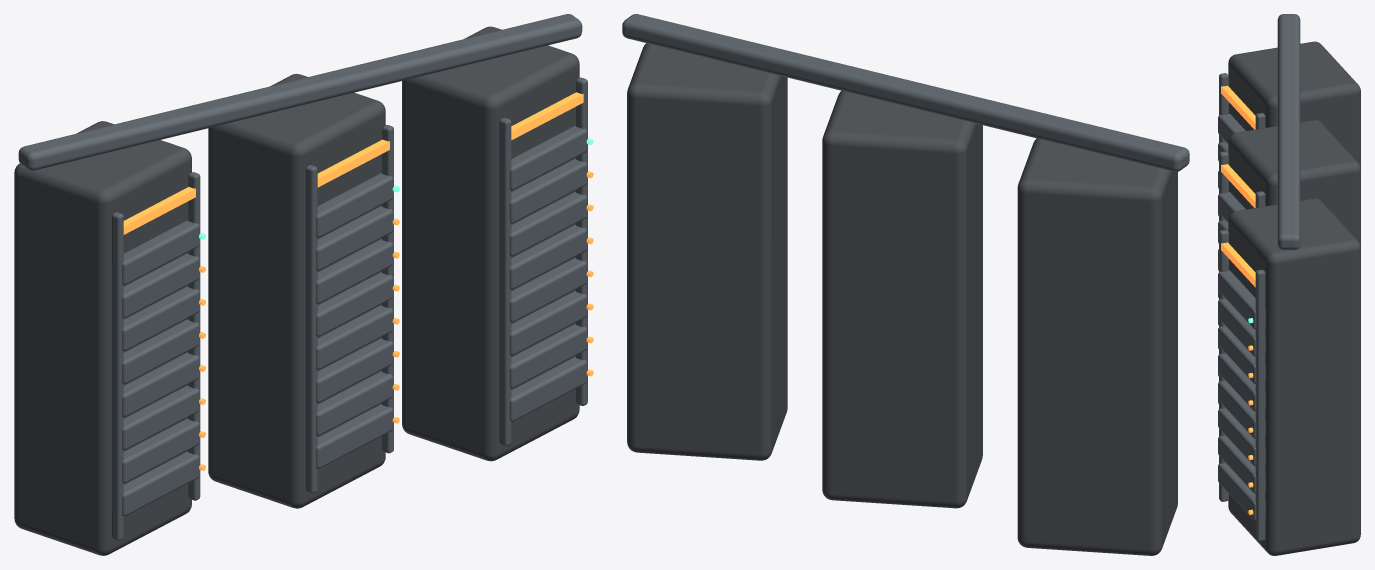
Rendered from cloud-hpc.glb.
3 renders of one model, left to right at view 1: azimuth 30°, elevation 25°; view 2: azimuth 150°, elevation 25°; view 3: azimuth 270°, elevation 25°, orthographic. The views are drawn at different scales.
Parts seen in each view (by area): view 1: Cloud_Rack_A, Cloud_Rack_B, Cloud_Rack_C, Cloud_HPC_TopologySpine, Cloud_Rack_B_LeftRail, Cloud_Rack_C_LeftRail, Cloud_Rack_A_LeftRail, Cloud_Rack_C_Bay_07, Cloud_Rack_C_Bay_05, Cloud_Rack_C_Bay_06, Cloud_Rack_C_Bay_08, Cloud_Rack_C_Bay_01 (+25 smaller); view 2: Cloud_Rack_A, Cloud_Rack_B, Cloud_Rack_C, Cloud_HPC_TopologySpine; view 3: Cloud_Rack_C, Cloud_Rack_A, Cloud_Rack_B, Cloud_HPC_TopologySpine, Cloud_Rack_C_RightRail, Cloud_Rack_C_Bay_08, Cloud_Rack_C_Bay_03, Cloud_Rack_C_Bay_01, Cloud_Rack_C_Bay_04, Cloud_Rack_C_Bay_06, Cloud_Rack_C_Bay_02, Cloud_Rack_C_Bay_05 (+9 smaller).
Part boxes in pixels (<box>): Cloud_Rack_A: <box>14,121,191,555</box>; Cloud_Rack_B: <box>208,73,385,508</box>; Cloud_Rack_C: <box>402,26,579,461</box>; Cloud_HPC_TopologySpine: <box>18,14,582,170</box>; Cloud_Rack_B_LeftRail: <box>305,165,317,493</box>; Cloud_Rack_C_LeftRail: <box>499,117,511,446</box>; Cloud_Rack_A_LeftRail: <box>112,212,123,540</box>; Cloud_Rack_C_Bay_07: <box>509,158,587,223</box>; Cloud_Rack_C_Bay_05: <box>509,225,587,289</box>; Cloud_Rack_C_Bay_06: <box>509,192,587,256</box>; Cloud_Rack_C_Bay_08: <box>509,125,587,190</box>; Cloud_Rack_C_Bay_01: <box>509,357,587,421</box>; Cloud_Rack_A: <box>1017,138,1177,555</box>; Cloud_Rack_B: <box>822,90,982,508</box>; Cloud_Rack_C: <box>627,43,787,460</box>; Cloud_HPC_TopologySpine: <box>622,14,1189,171</box>; Cloud_Rack_C: <box>1228,198,1360,555</box>; Cloud_Rack_A: <box>1228,41,1360,167</box>; Cloud_Rack_B: <box>1228,120,1360,246</box>; Cloud_HPC_TopologySpine: <box>1277,14,1300,249</box>; Cloud_Rack_C_RightRail: <box>1255,269,1265,541</box>; Cloud_Rack_C_Bay_08: <box>1218,270,1265,329</box>; Cloud_Rack_C_Bay_03: <box>1218,408,1265,466</box>; Cloud_Rack_C_Bay_01: <box>1218,463,1265,520</box>; Cloud_Rack_C_Bay_04: <box>1218,381,1265,438</box>; Cloud_Rack_C_Bay_06: <box>1218,326,1265,383</box>; Cloud_Rack_C_Bay_02: <box>1218,435,1265,493</box>; Cloud_Rack_C_Bay_05: <box>1218,353,1265,411</box>.
Bounding box in the file's own units: 3.78 × 2.56 × 1.02.
